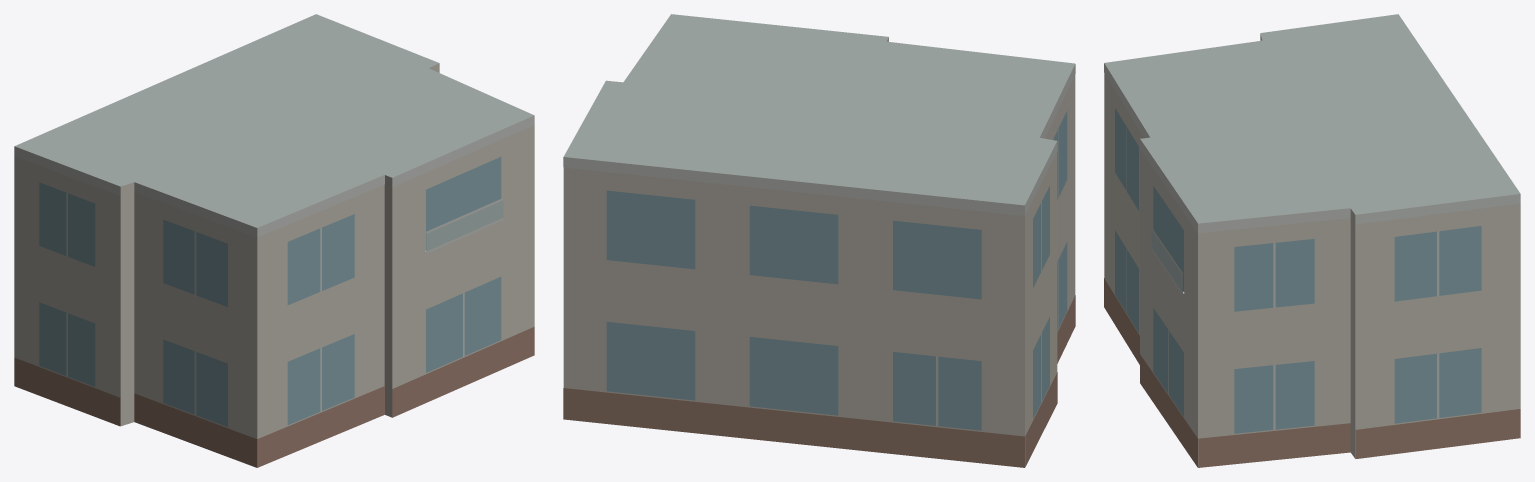
The model's file is survey-upis-32509295.glb.
3 renders of one model, left to right at view 1: azimuth 30°, elevation 25°; view 2: azimuth 150°, elevation 25°; view 3: azimuth 270°, elevation 25°, orthographic. The views are drawn at different scales.
Visible parts, largest first — view 1: survey-upis-32509295.tmp; view 2: survey-upis-32509295.tmp; view 3: survey-upis-32509295.tmp.
Boxes of the visible parts, x1,y1,x2,y2 form: survey-upis-32509295.tmp: [14, 14, 534, 467]; survey-upis-32509295.tmp: [563, 14, 1075, 467]; survey-upis-32509295.tmp: [1104, 14, 1520, 467].
Bounding box in the file's own units: 11.24 × 6.1 × 9.44.
